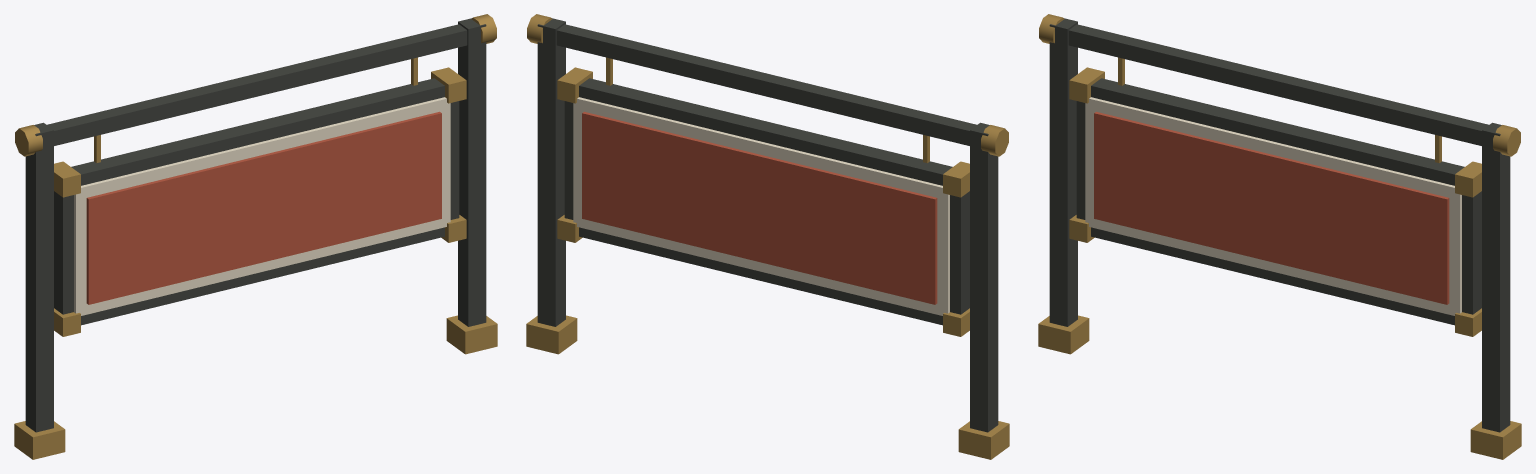
Rendered from sign_roof_2.glb.
The picture shows the model from 3 angles, left to right: view 1: azimuth 30°, elevation 25°; view 2: azimuth 150°, elevation 25°; view 3: azimuth 330°, elevation 25°; orthographic projection.
Parts seen in each view (by area): view 1: sign_roof_2; view 2: sign_roof_2; view 3: sign_roof_2.
Part boxes in pixels (x1,y1,x2,y2): sign_roof_2: (14, 14, 497, 459); sign_roof_2: (526, 14, 1009, 459); sign_roof_2: (1038, 14, 1521, 459).
Bounding box in the file's own units: 2.6 × 1.71 × 0.18.
